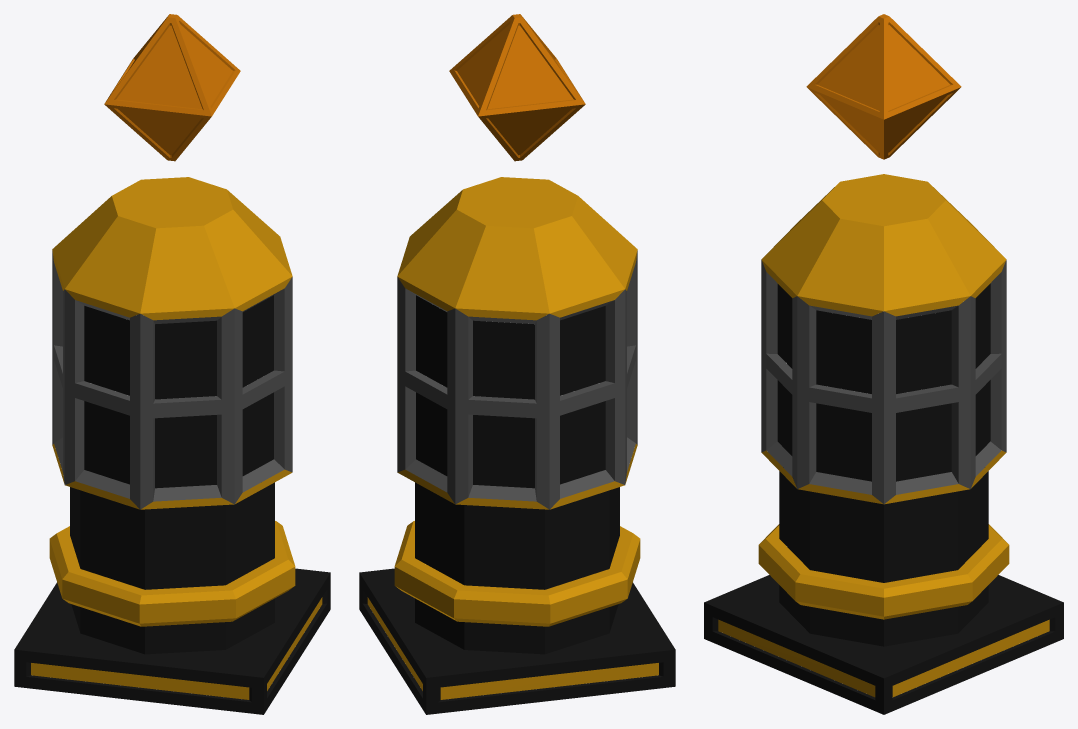
File: Hive Turret.glb
3 renders of one model, left to right at view 1: azimuth 30°, elevation 25°; view 2: azimuth 150°, elevation 25°; view 3: azimuth 270°, elevation 25°, orthographic.
Visible parts, largest first — view 1: BaseHiveTurret1, GunHiveTurret1, StorageHiveTurret1; view 2: BaseHiveTurret1, GunHiveTurret1, StorageHiveTurret1; view 3: BaseHiveTurret1, GunHiveTurret1, StorageHiveTurret1.
Boxes of the visible parts, left/top/right/bottom form: BaseHiveTurret1: left=14, top=177, right=330, bottom=714; GunHiveTurret1: left=52, top=251, right=292, bottom=509; StorageHiveTurret1: left=104, top=14, right=240, bottom=161; BaseHiveTurret1: left=359, top=177, right=675, bottom=714; GunHiveTurret1: left=397, top=251, right=637, bottom=509; StorageHiveTurret1: left=449, top=14, right=585, bottom=161; BaseHiveTurret1: left=704, top=174, right=1063, bottom=714; GunHiveTurret1: left=761, top=260, right=1006, bottom=503; StorageHiveTurret1: left=806, top=14, right=961, bottom=159.
Size of the model in its own units: 2.26 by 4.32 by 2.26.
